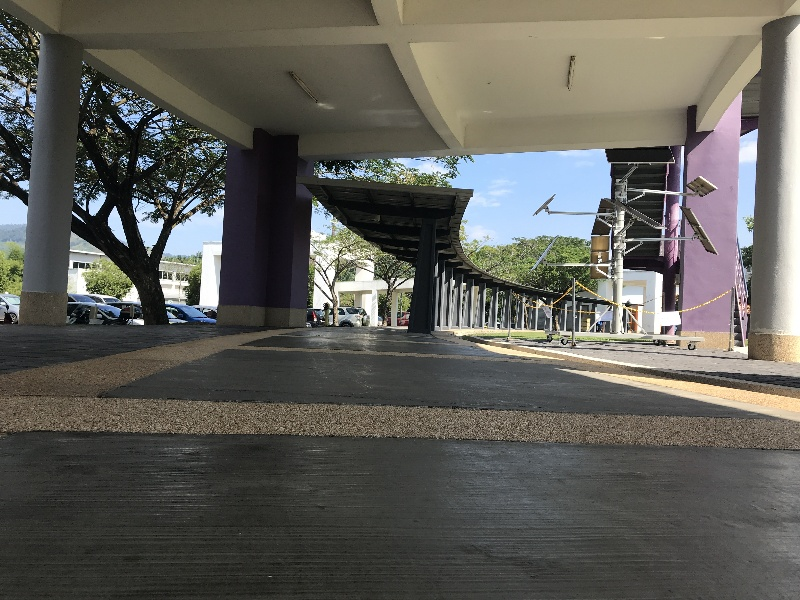Block D Pillar 5: (6, 5, 800, 538)
pillar: (201, 112, 316, 349), (12, 12, 80, 335), (664, 90, 740, 366), (746, 19, 799, 371), (394, 210, 443, 345)
